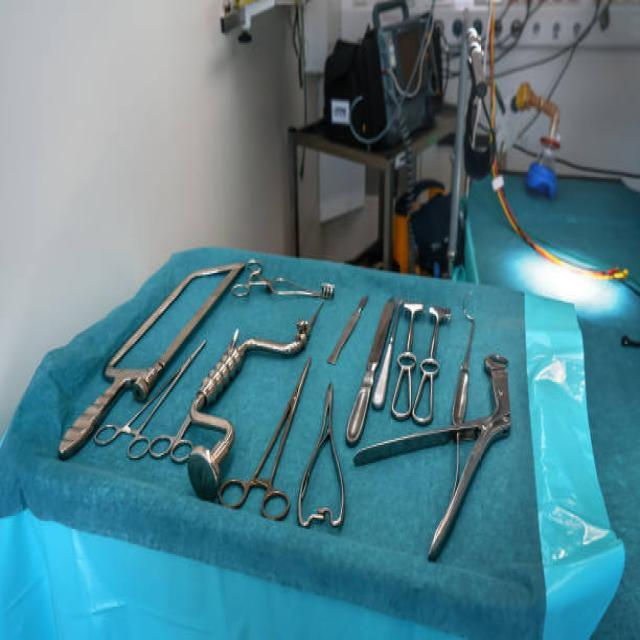tools_table: (0, 235, 625, 640)
